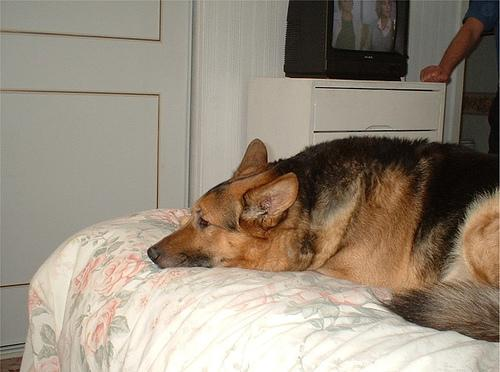German_shepherd: (139, 135, 499, 346)
